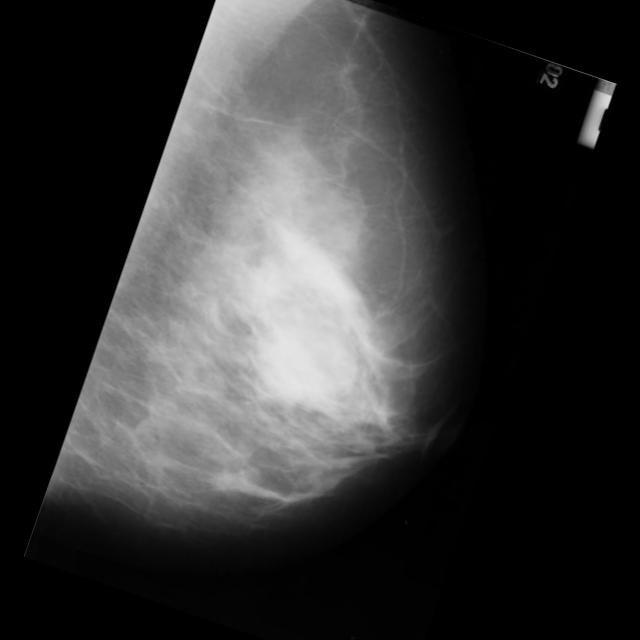CIRC: (230, 284, 378, 432)
